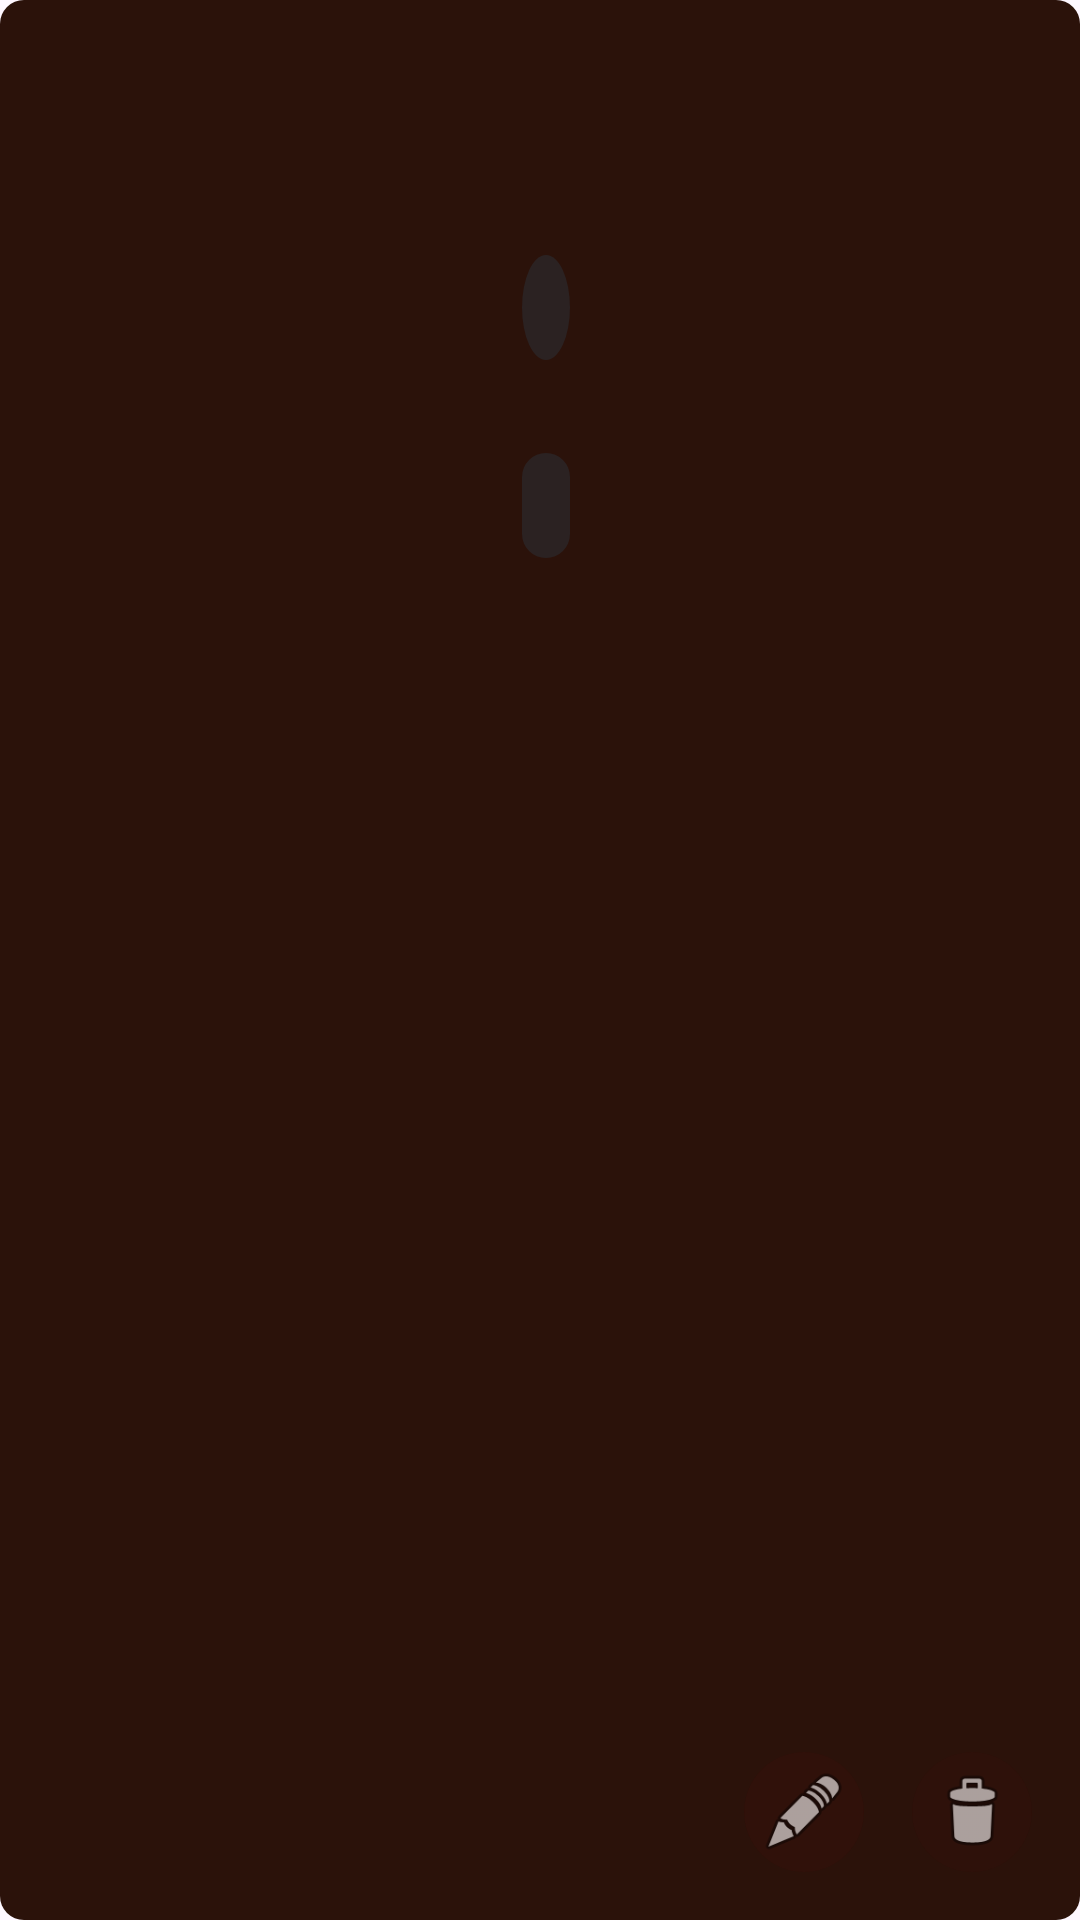

Where icons sit on this 1080px x 1920px app screen, as bbox=[x1, y1, x2, y2]:
delete: bbox=[950, 1778, 995, 1843]
edit: bbox=[768, 1776, 839, 1847]
